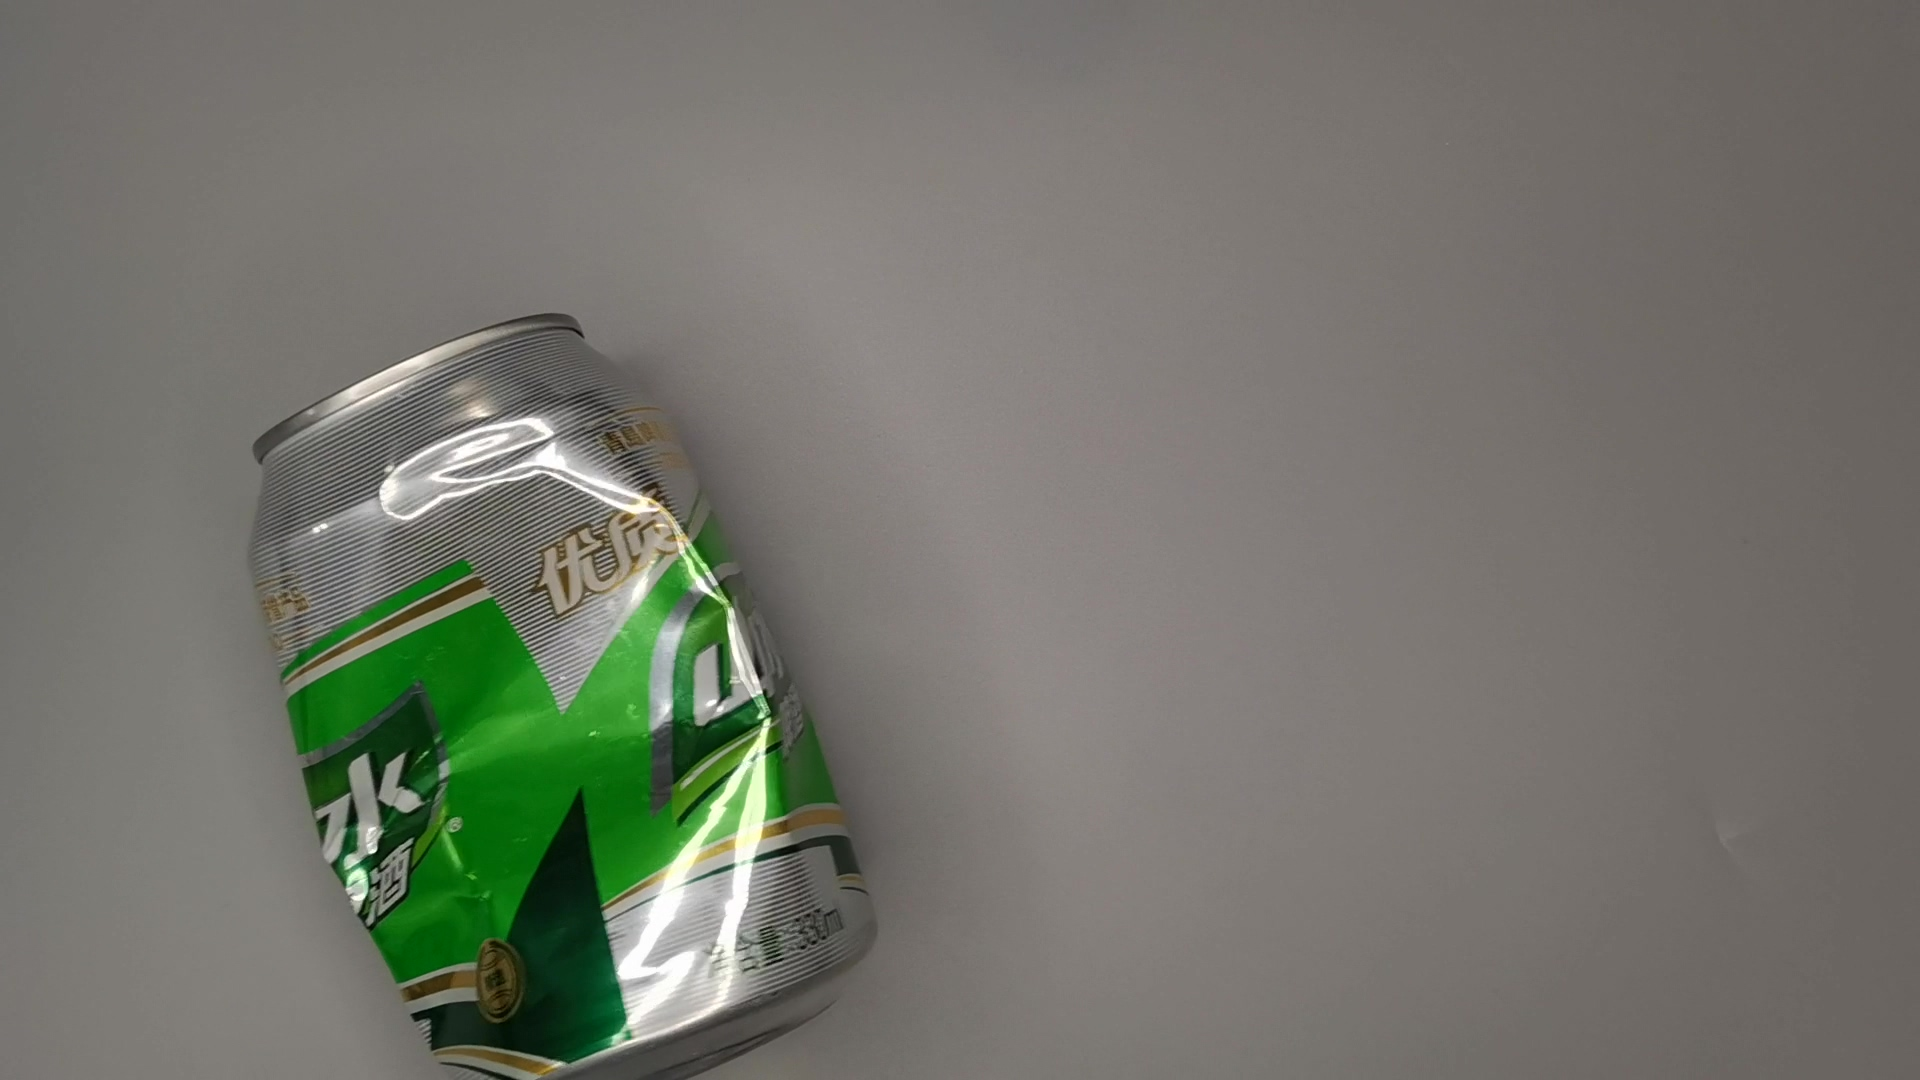can: (229, 305, 891, 1080)
